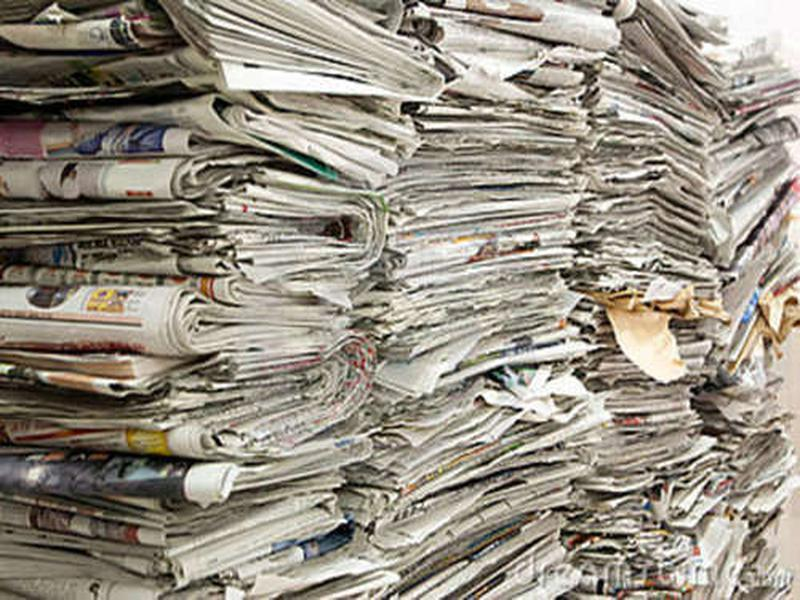paper: (5, 4, 402, 600), (363, 4, 616, 600), (581, 1, 800, 600)
